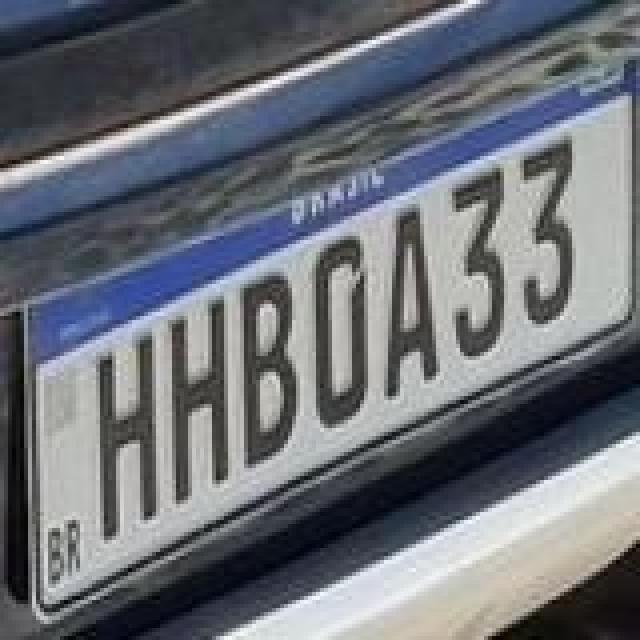3: (452, 168, 508, 360), (520, 138, 576, 326)
A: (384, 208, 440, 400)
B: (242, 270, 302, 466)
D: (312, 240, 368, 432)
H: (168, 294, 232, 506), (98, 336, 158, 544)
